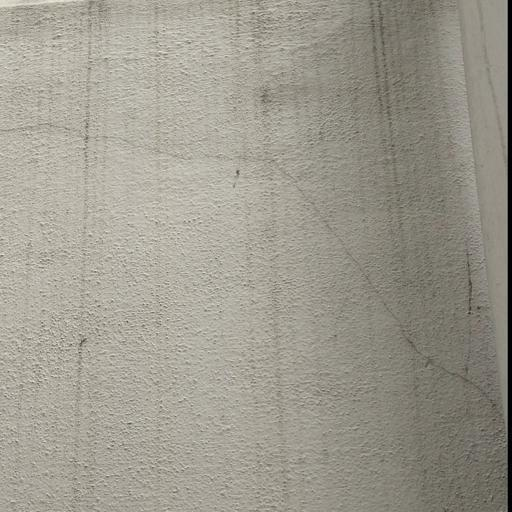minor_crack: (0, 107, 512, 433)
